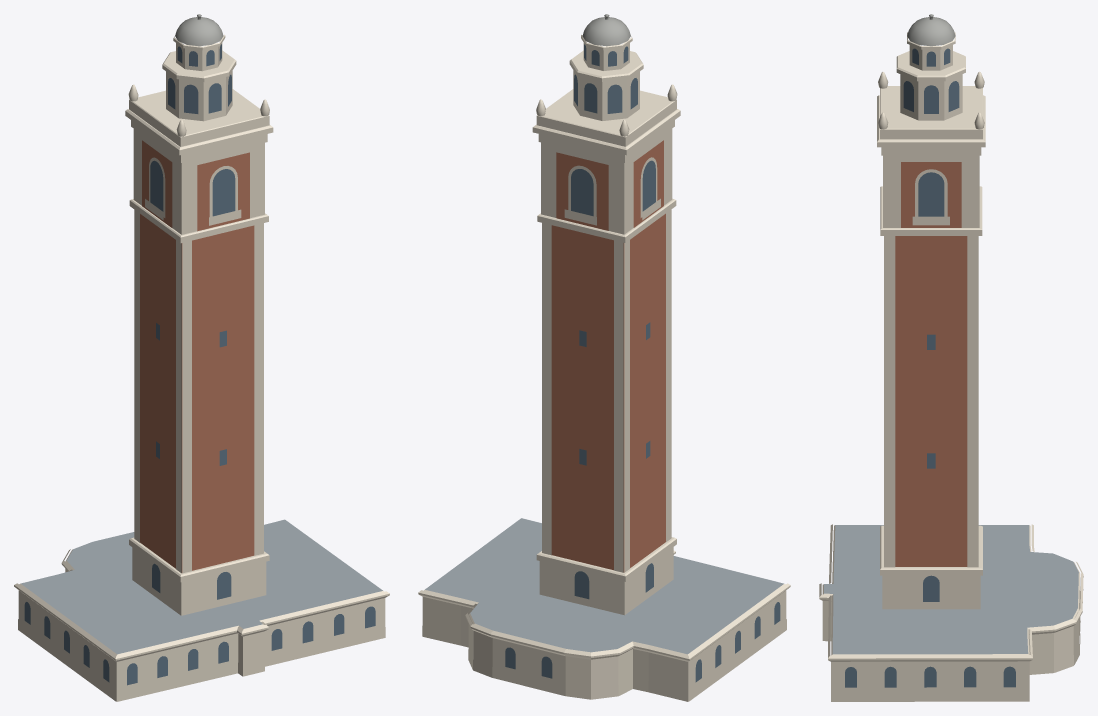
The model's file is ric-virginia-war-memorial-carillon.glb.
3 renders of one model, left to right at view 1: azimuth 30°, elevation 25°; view 2: azimuth 150°, elevation 25°; view 3: azimuth 270°, elevation 25°, orthographic.
Parts seen in each view (by area): view 1: Virginia War Memorial Carillon; view 2: Virginia War Memorial Carillon; view 3: Virginia War Memorial Carillon.
Boxes of the visible parts, x1,y1,x2,y2 form: Virginia War Memorial Carillon: [14, 14, 389, 701]; Virginia War Memorial Carillon: [418, 14, 790, 701]; Virginia War Memorial Carillon: [819, 14, 1083, 701].
Size of the model in its own units: 33.7 by 73.2 by 28.2.
